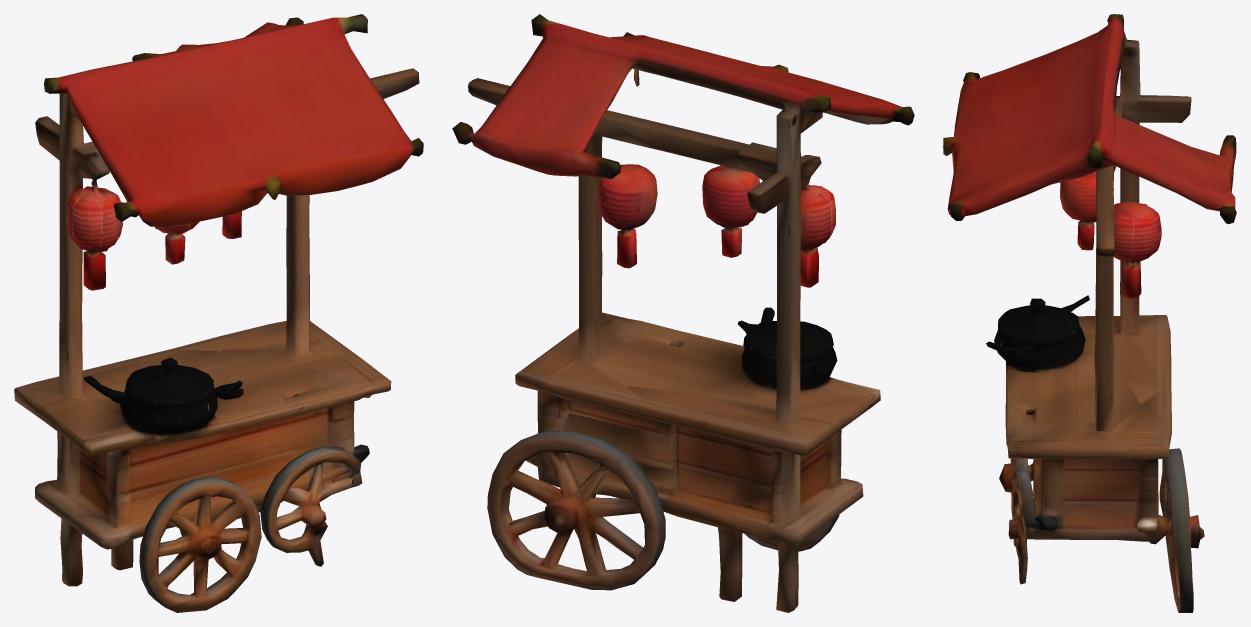
Rendered from yatai_stall.glb.
3 views of the same model, side by side, from view 1: azimuth 30°, elevation 25°; view 2: azimuth 150°, elevation 25°; view 3: azimuth 270°, elevation 25° (orthographic). The views are drawn at different scales.
Visible parts, largest first — view 1: yatai_stall; view 2: yatai_stall; view 3: yatai_stall.
Boxes of the visible parts, x1=… form: yatai_stall: x1=14, y1=14, x2=423, y2=612; yatai_stall: x1=452, y1=14, x2=914, y2=612; yatai_stall: x1=943, y1=14, x2=1236, y2=612.
Size of the model in its own units: 1.95 by 2.6 by 1.43.
Materials: 1 (1 with a texture image).
